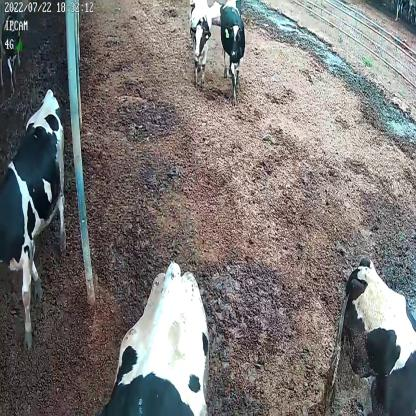cow: (0, 86, 67, 352), (218, 0, 246, 101), (189, 0, 212, 92)
